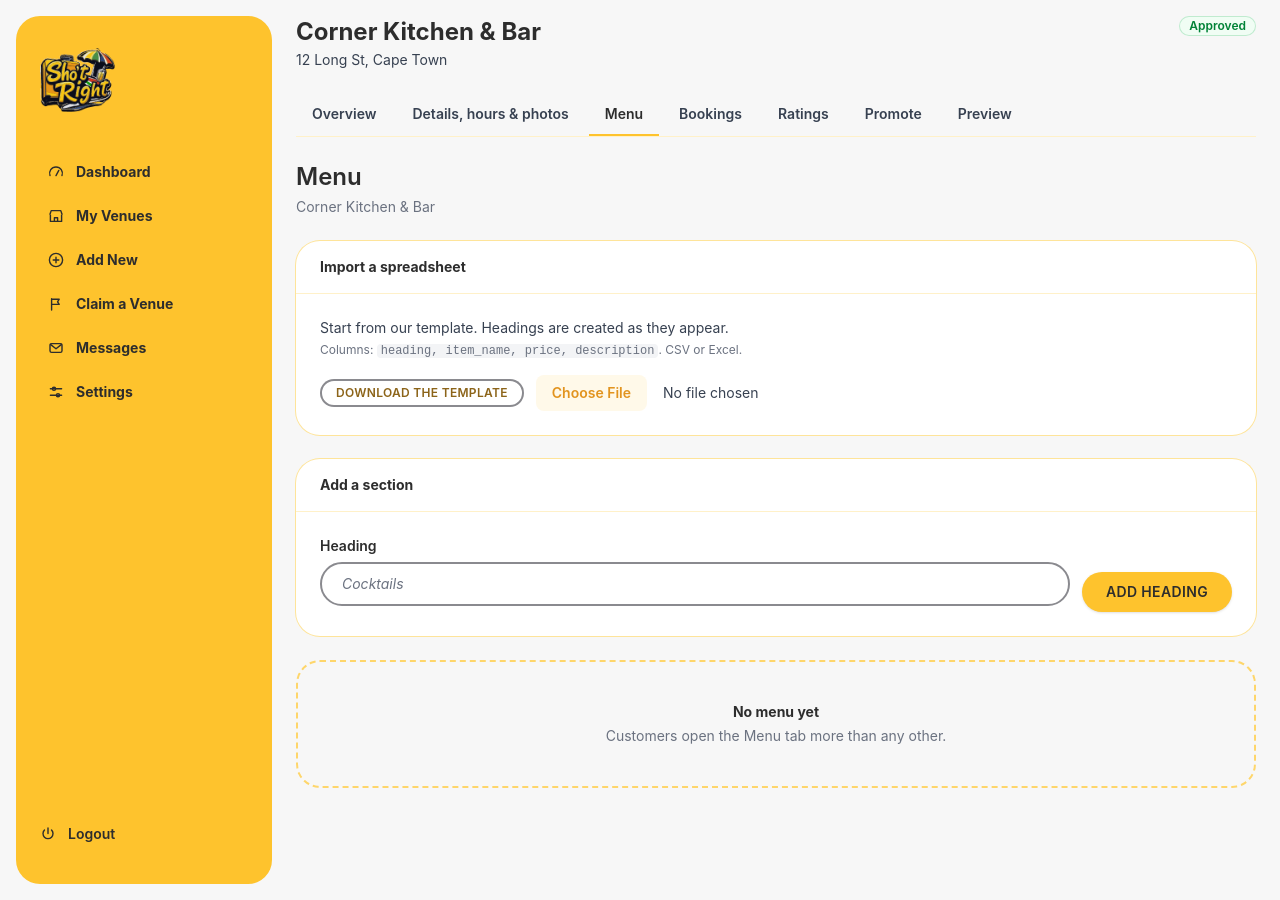
Test: add a menu › shows the item on the page once it is saved
Type "Starters" into the field labelled "Heading". click: (695, 584)
box: [320,562,1070,606]
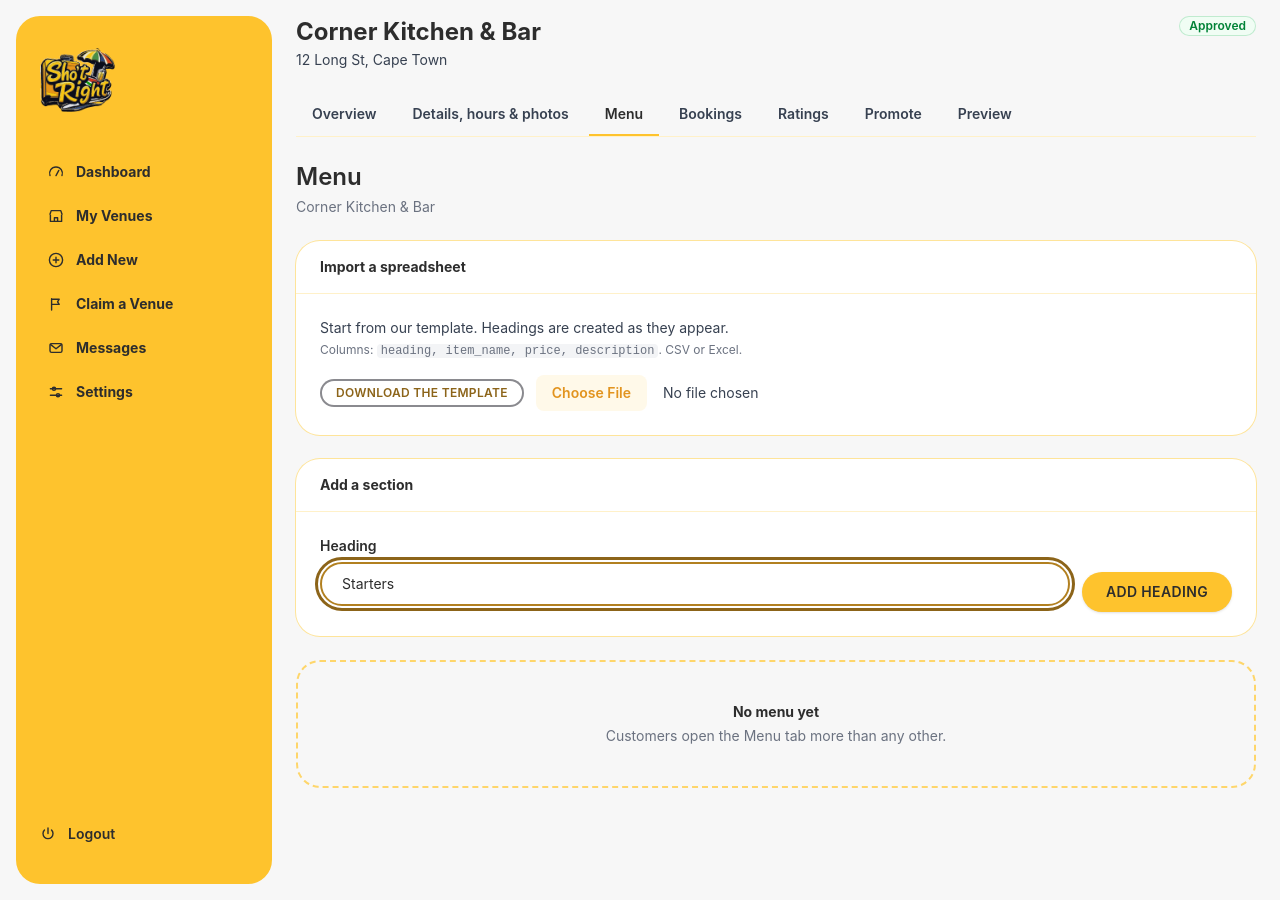
Click the button "Add heading". click: (1157, 592)
box: [1082,572,1232,612]
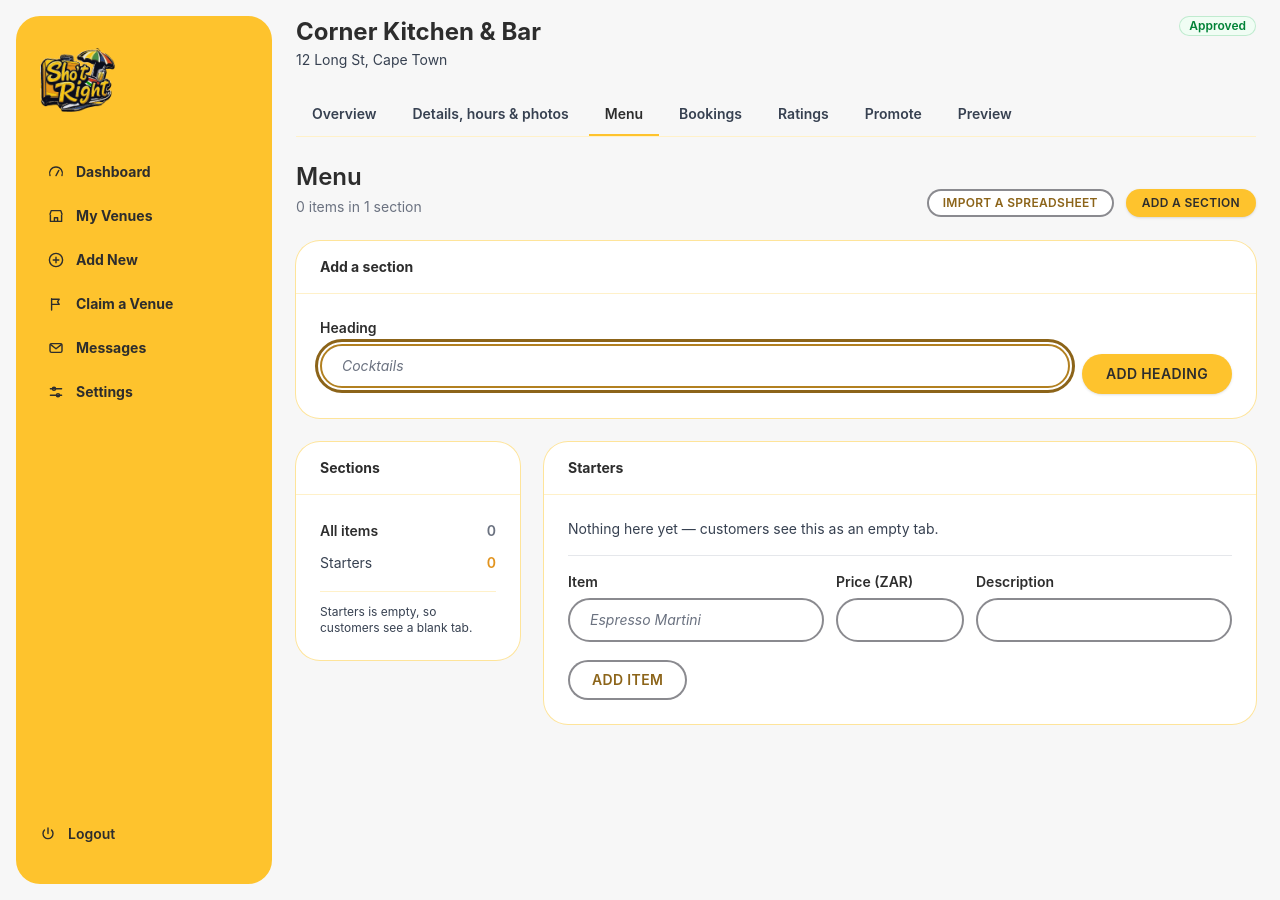
Type "Chakalaka" into the field labelled "Item". click: (696, 620)
box: [568,598,824,642]
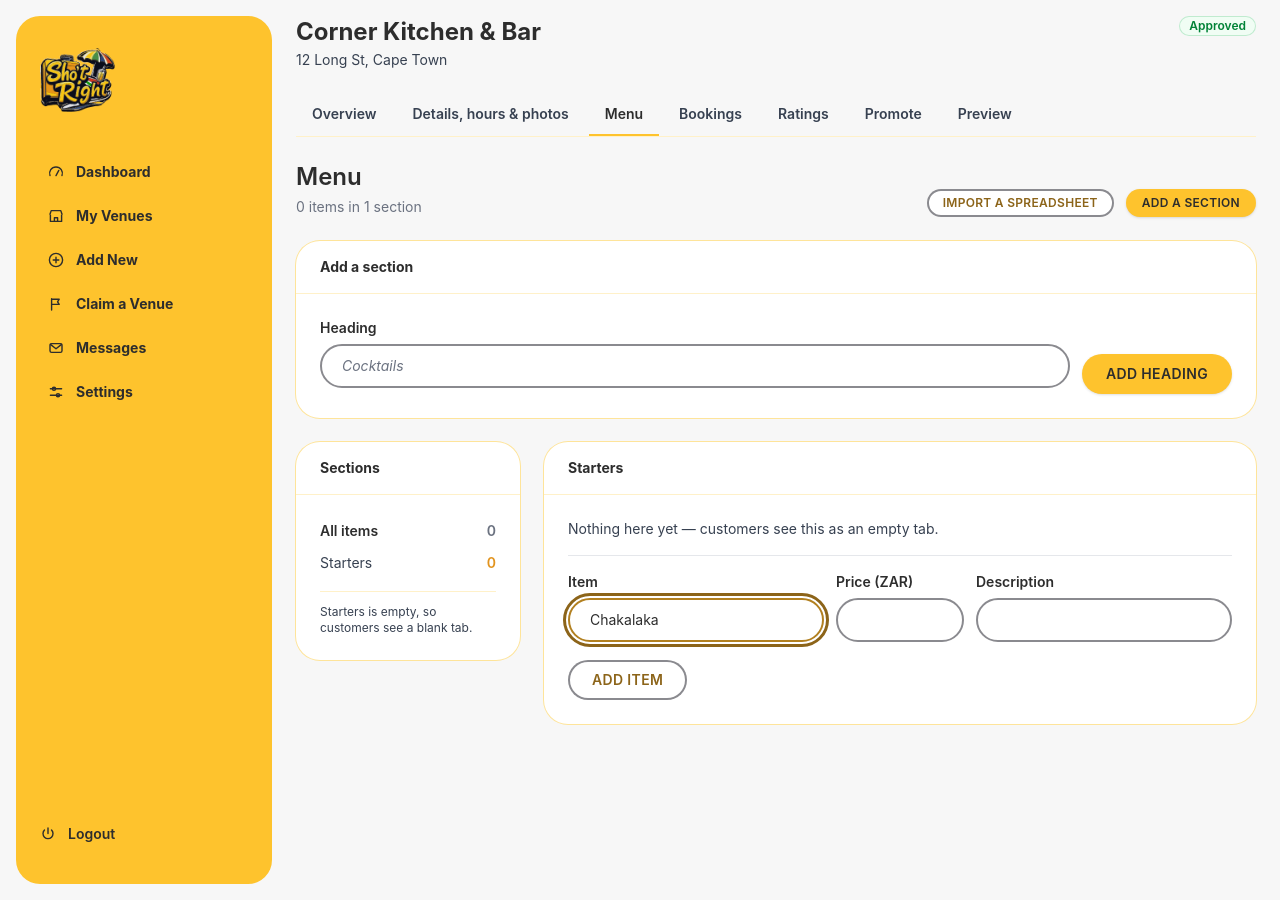
Type "45" into the number field labelled "Price (ZAR)". click: (900, 620)
box: [836,598,964,642]
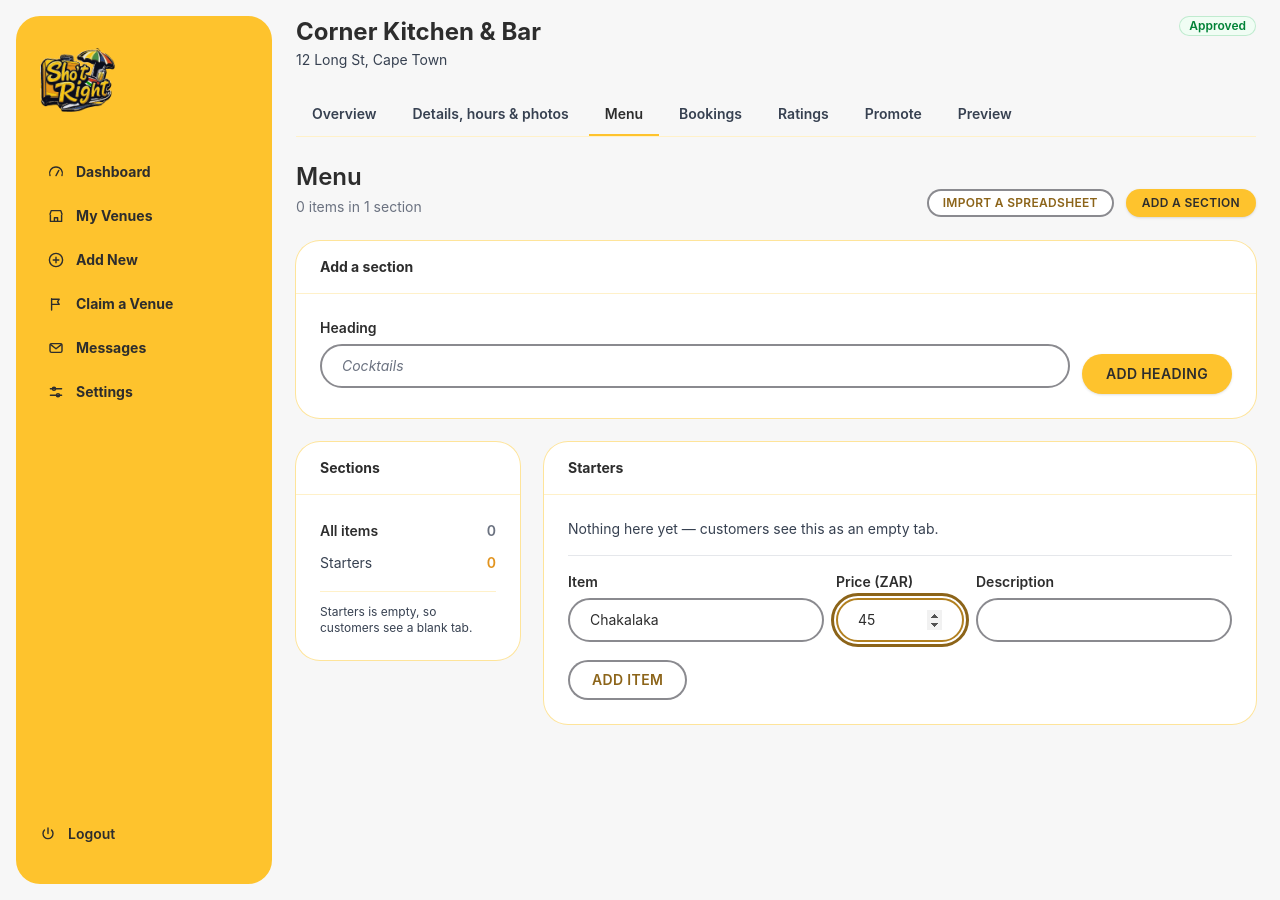
Click the button "Add item". click: (628, 680)
box: [568,660,687,700]
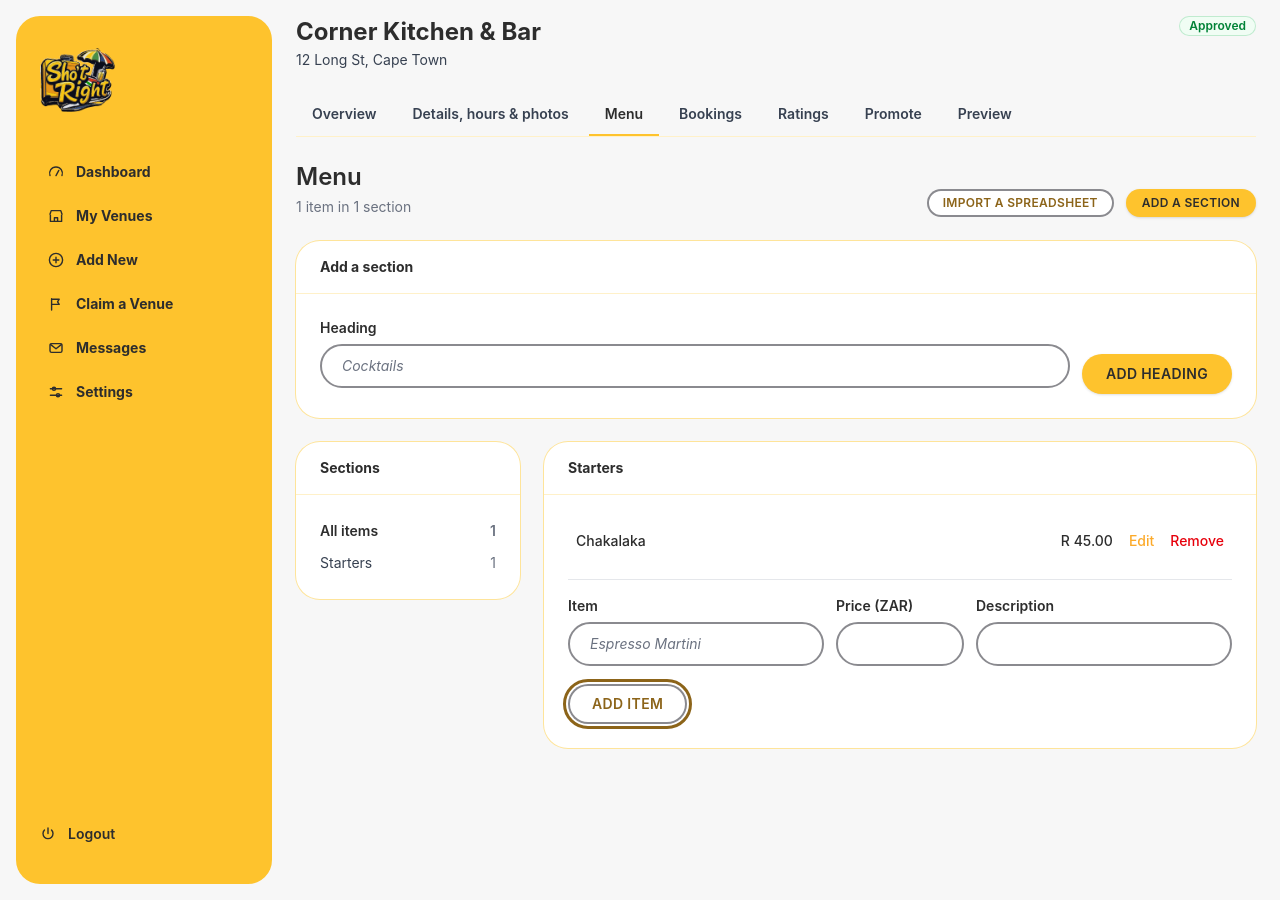
expect the text "Chakalaka" is shown: met, box [576,531,646,551]
